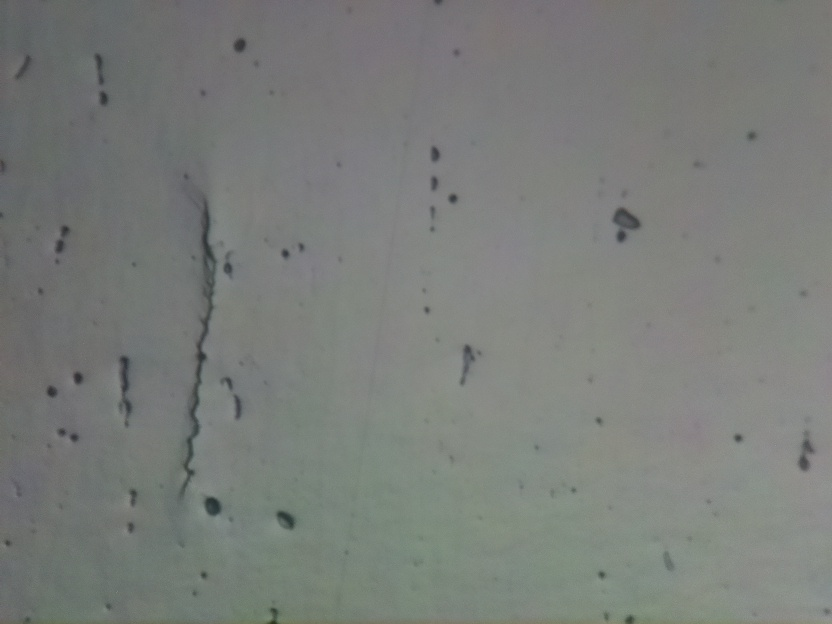crack: (168, 185, 217, 491)
